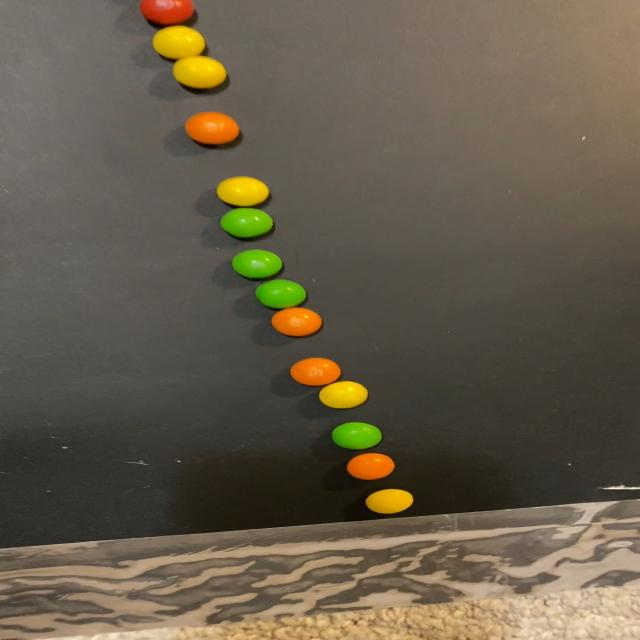smartie: (151, 24, 204, 58), (184, 111, 238, 144), (172, 55, 225, 88), (219, 207, 273, 238), (254, 279, 306, 309), (216, 176, 268, 206), (270, 307, 321, 337), (231, 249, 281, 279), (290, 358, 340, 386), (331, 423, 382, 450), (318, 381, 367, 409), (346, 454, 394, 481), (365, 490, 413, 515)
